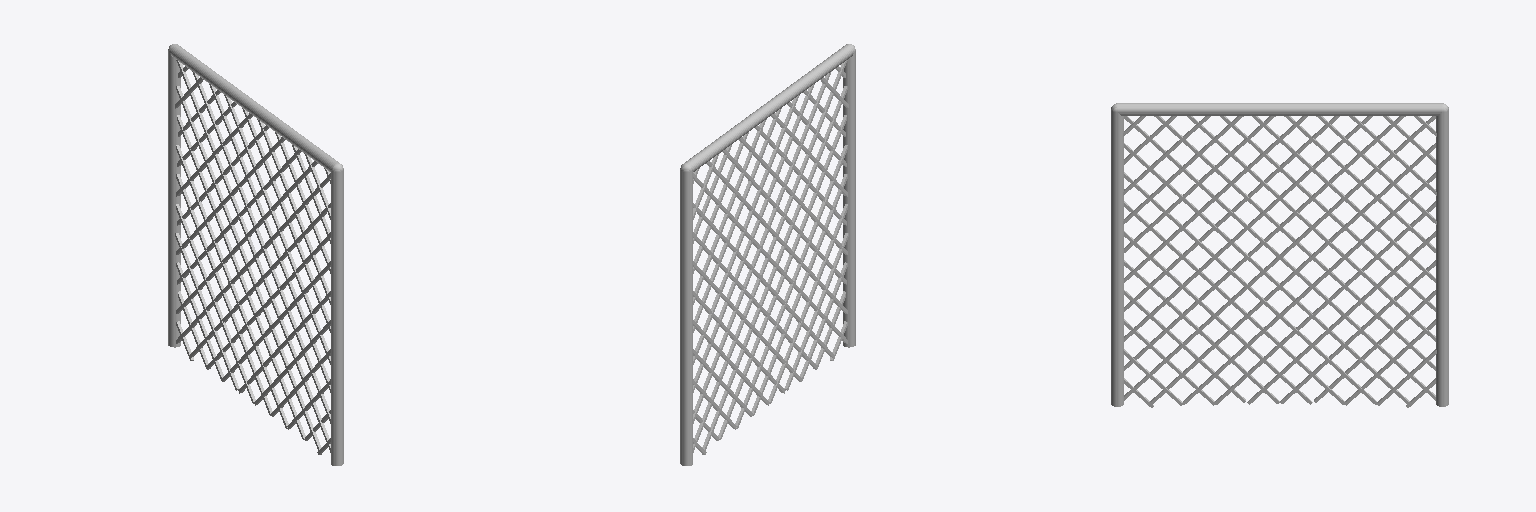
File: Fence.obj
The picture shows the model from 3 angles: view 1: azimuth 30°, elevation 25°; view 2: azimuth 150°, elevation 25°; view 3: azimuth 270°, elevation 25°; orthographic projection.
Visible parts, largest first — view 1: Cube.001; view 2: Cube.001; view 3: Cube.001.
Part boxes in pixels (left/top/right/bottom): Cube.001: left=168, top=44, right=343, bottom=465; Cube.001: left=680, top=44, right=855, bottom=465; Cube.001: left=1111, top=103, right=1448, bottom=407.
Size of the model in its own units: 0.4 by 10.33 by 10.4.